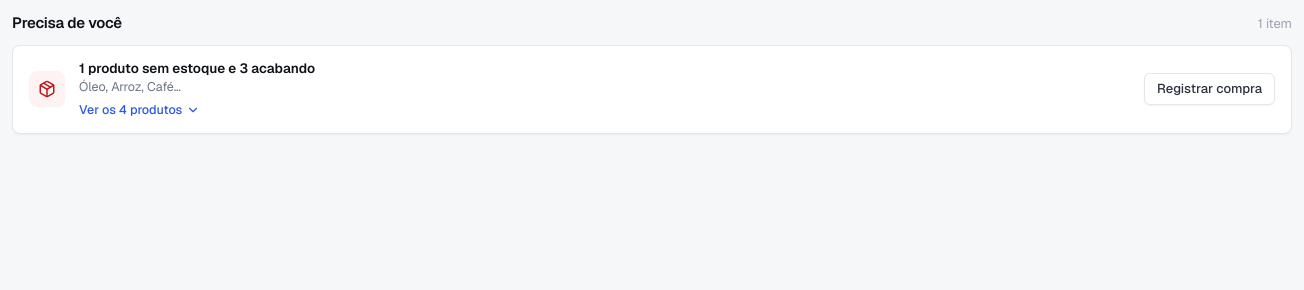
Scenario: PrecisaDeVoce — estoque › resume o estoque e abre a lista completa no próprio item, do menor para o maior
Expected: the text "1 produto sem estoque e 3 acabando" is shown, [79, 58, 315, 76]
What coordinates should you click on to do the following:
click the button "Ver os 4 produtos"
I would click on:
 (140, 110)
Its box is [79, 100, 200, 119].
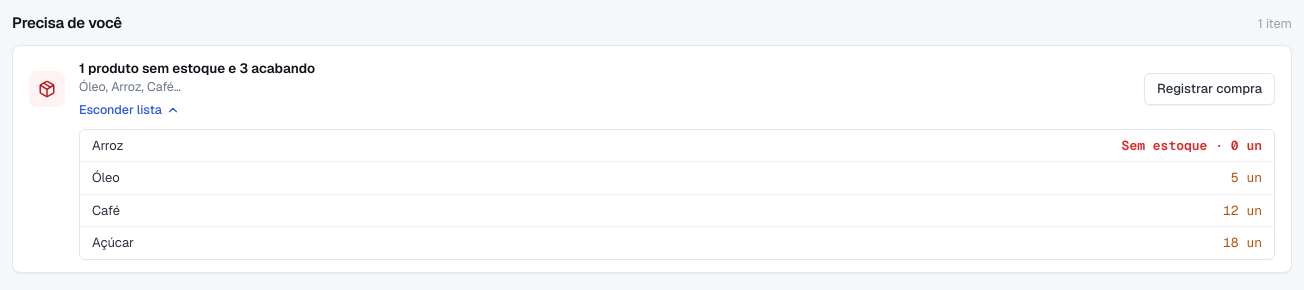
What coordinates should you click on to do the following:
click the button "Esconder lista"
I would click on:
 (129, 110)
Its box is [79, 100, 180, 119].
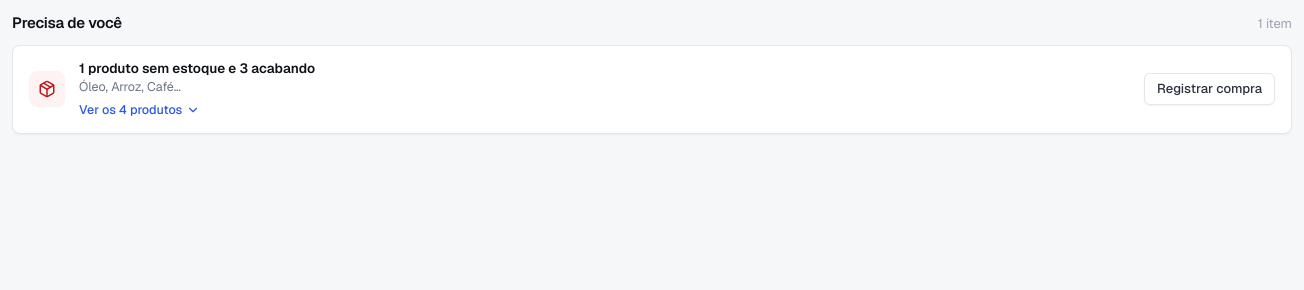
Now the list with id "lista-estoque" is gone
